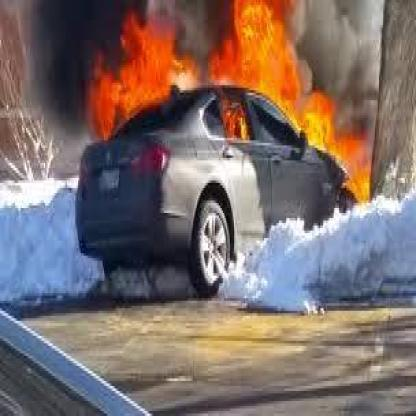fire: (84, 0, 383, 205)
